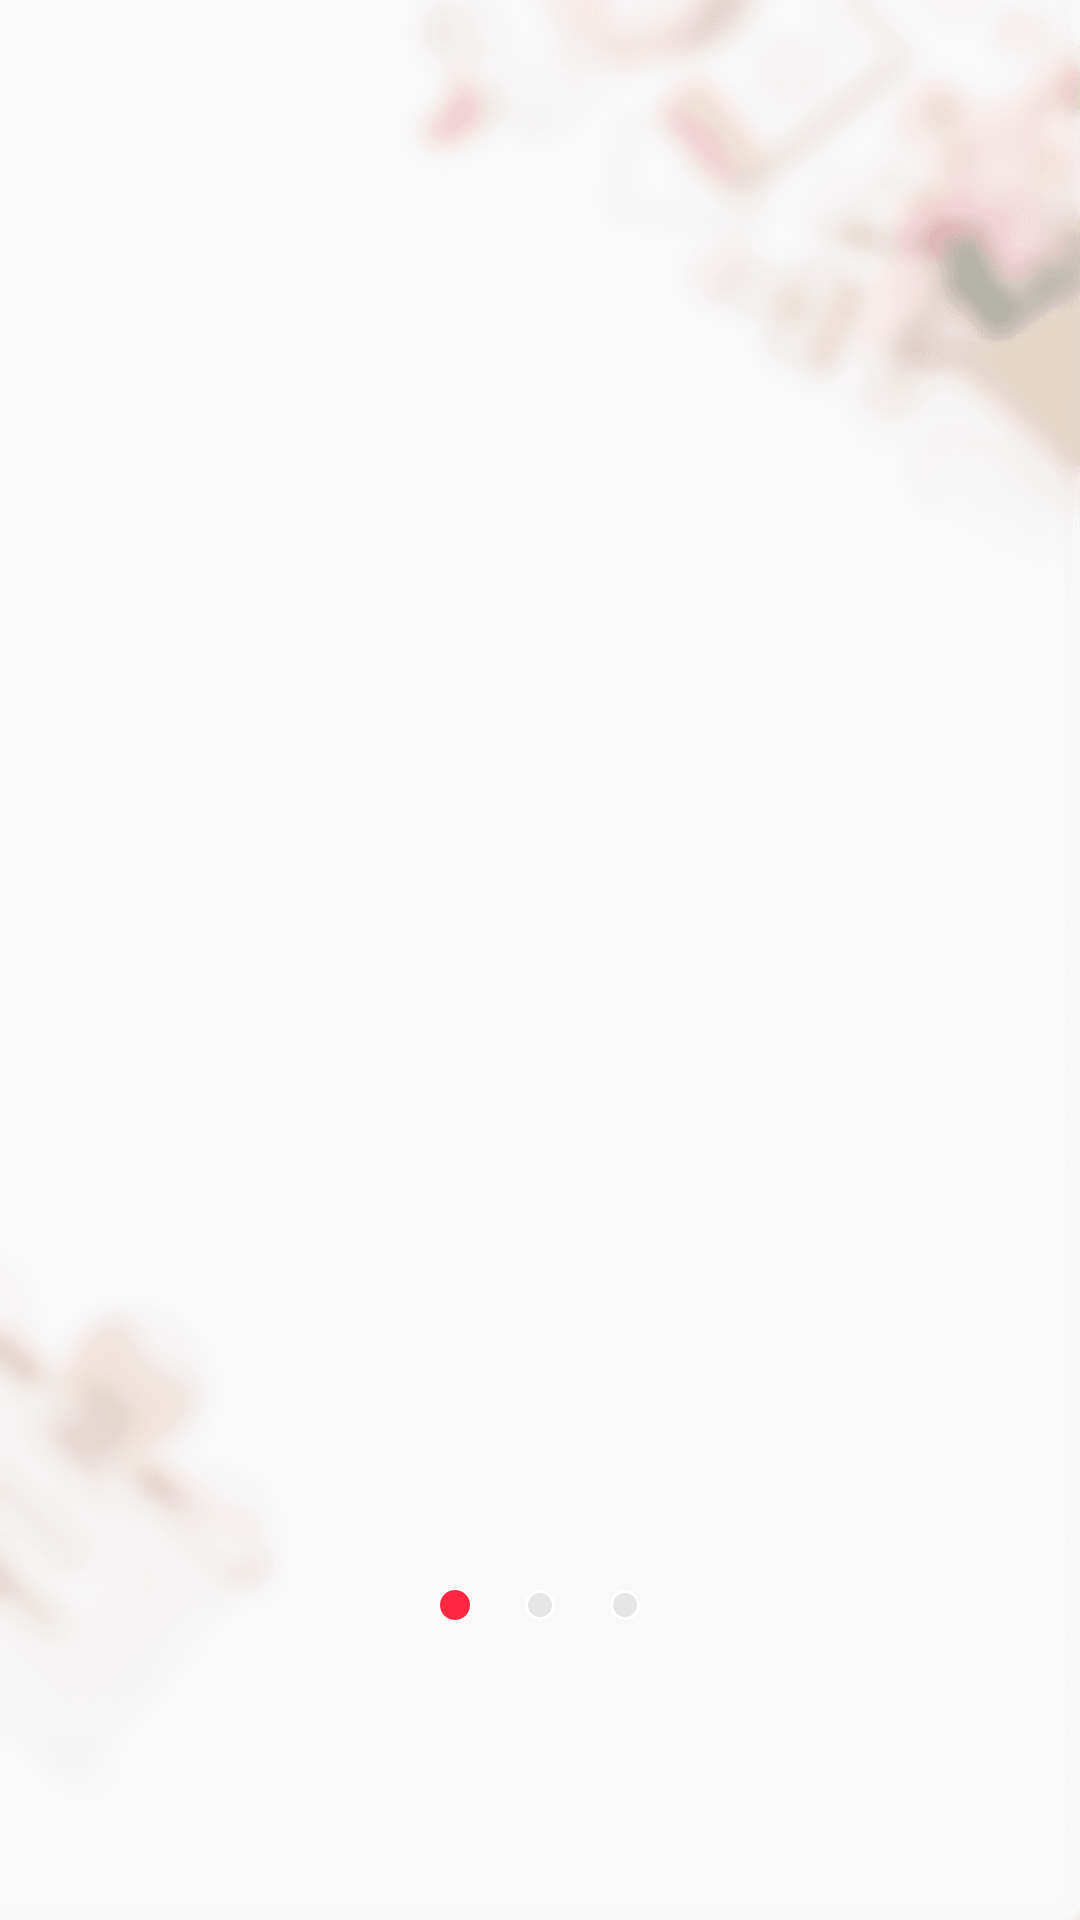

Locate icon controls on the screen. Image size 1080 × 1920, boxes as (x1, y1, x2, y2).
point: (440, 1590, 470, 1620)
